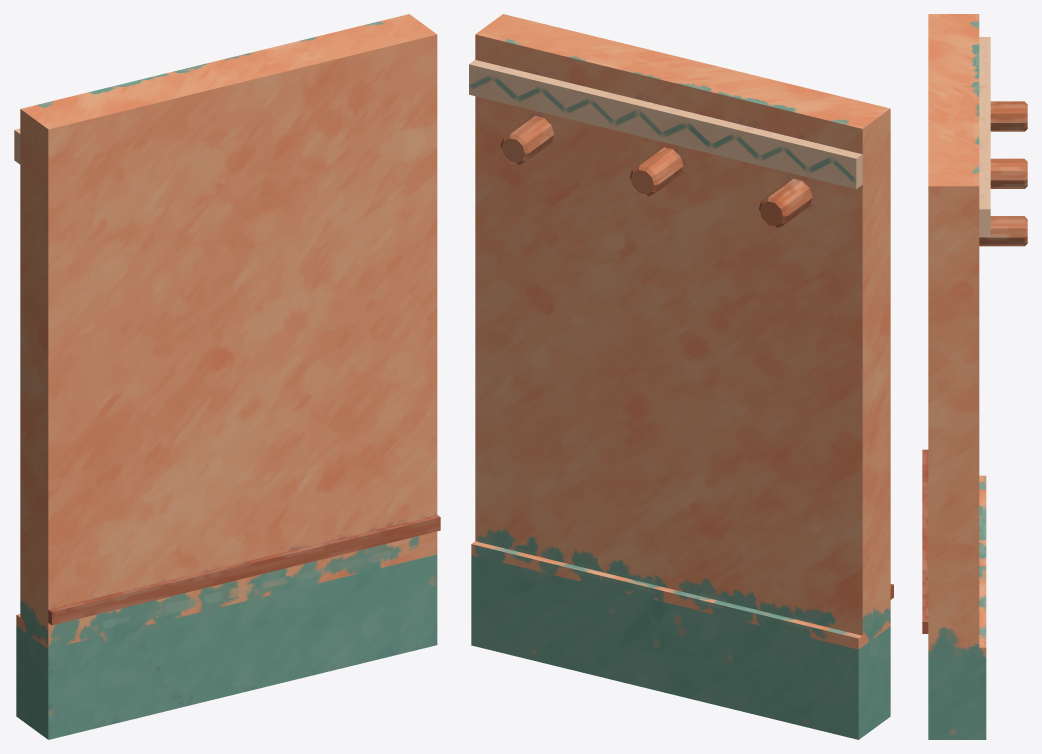
The model's file is wall2_plain.fbx.
3 views of the same model, side by side, from view 1: azimuth 30°, elevation 25°; view 2: azimuth 150°, elevation 25°; view 3: azimuth 270°, elevation 25° (orthographic). The views are drawn at different scales.
Visible parts, largest first — view 1: wall2_plain; view 2: wall2_plain; view 3: wall2_plain.
Part boxes in pixels (<box>): wall2_plain: <box>14,14,440,739</box>; wall2_plain: <box>469,14,893,739</box>; wall2_plain: <box>922,14,1027,739</box>.
Bounding box in the file's own units: 8 × 12 × 2.07.
1 material, 1 textured.
